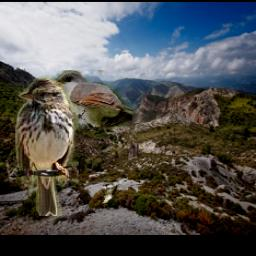Cuckoo: (45, 71, 132, 132), (102, 172, 123, 203)
Sparrow: (15, 76, 79, 216)
